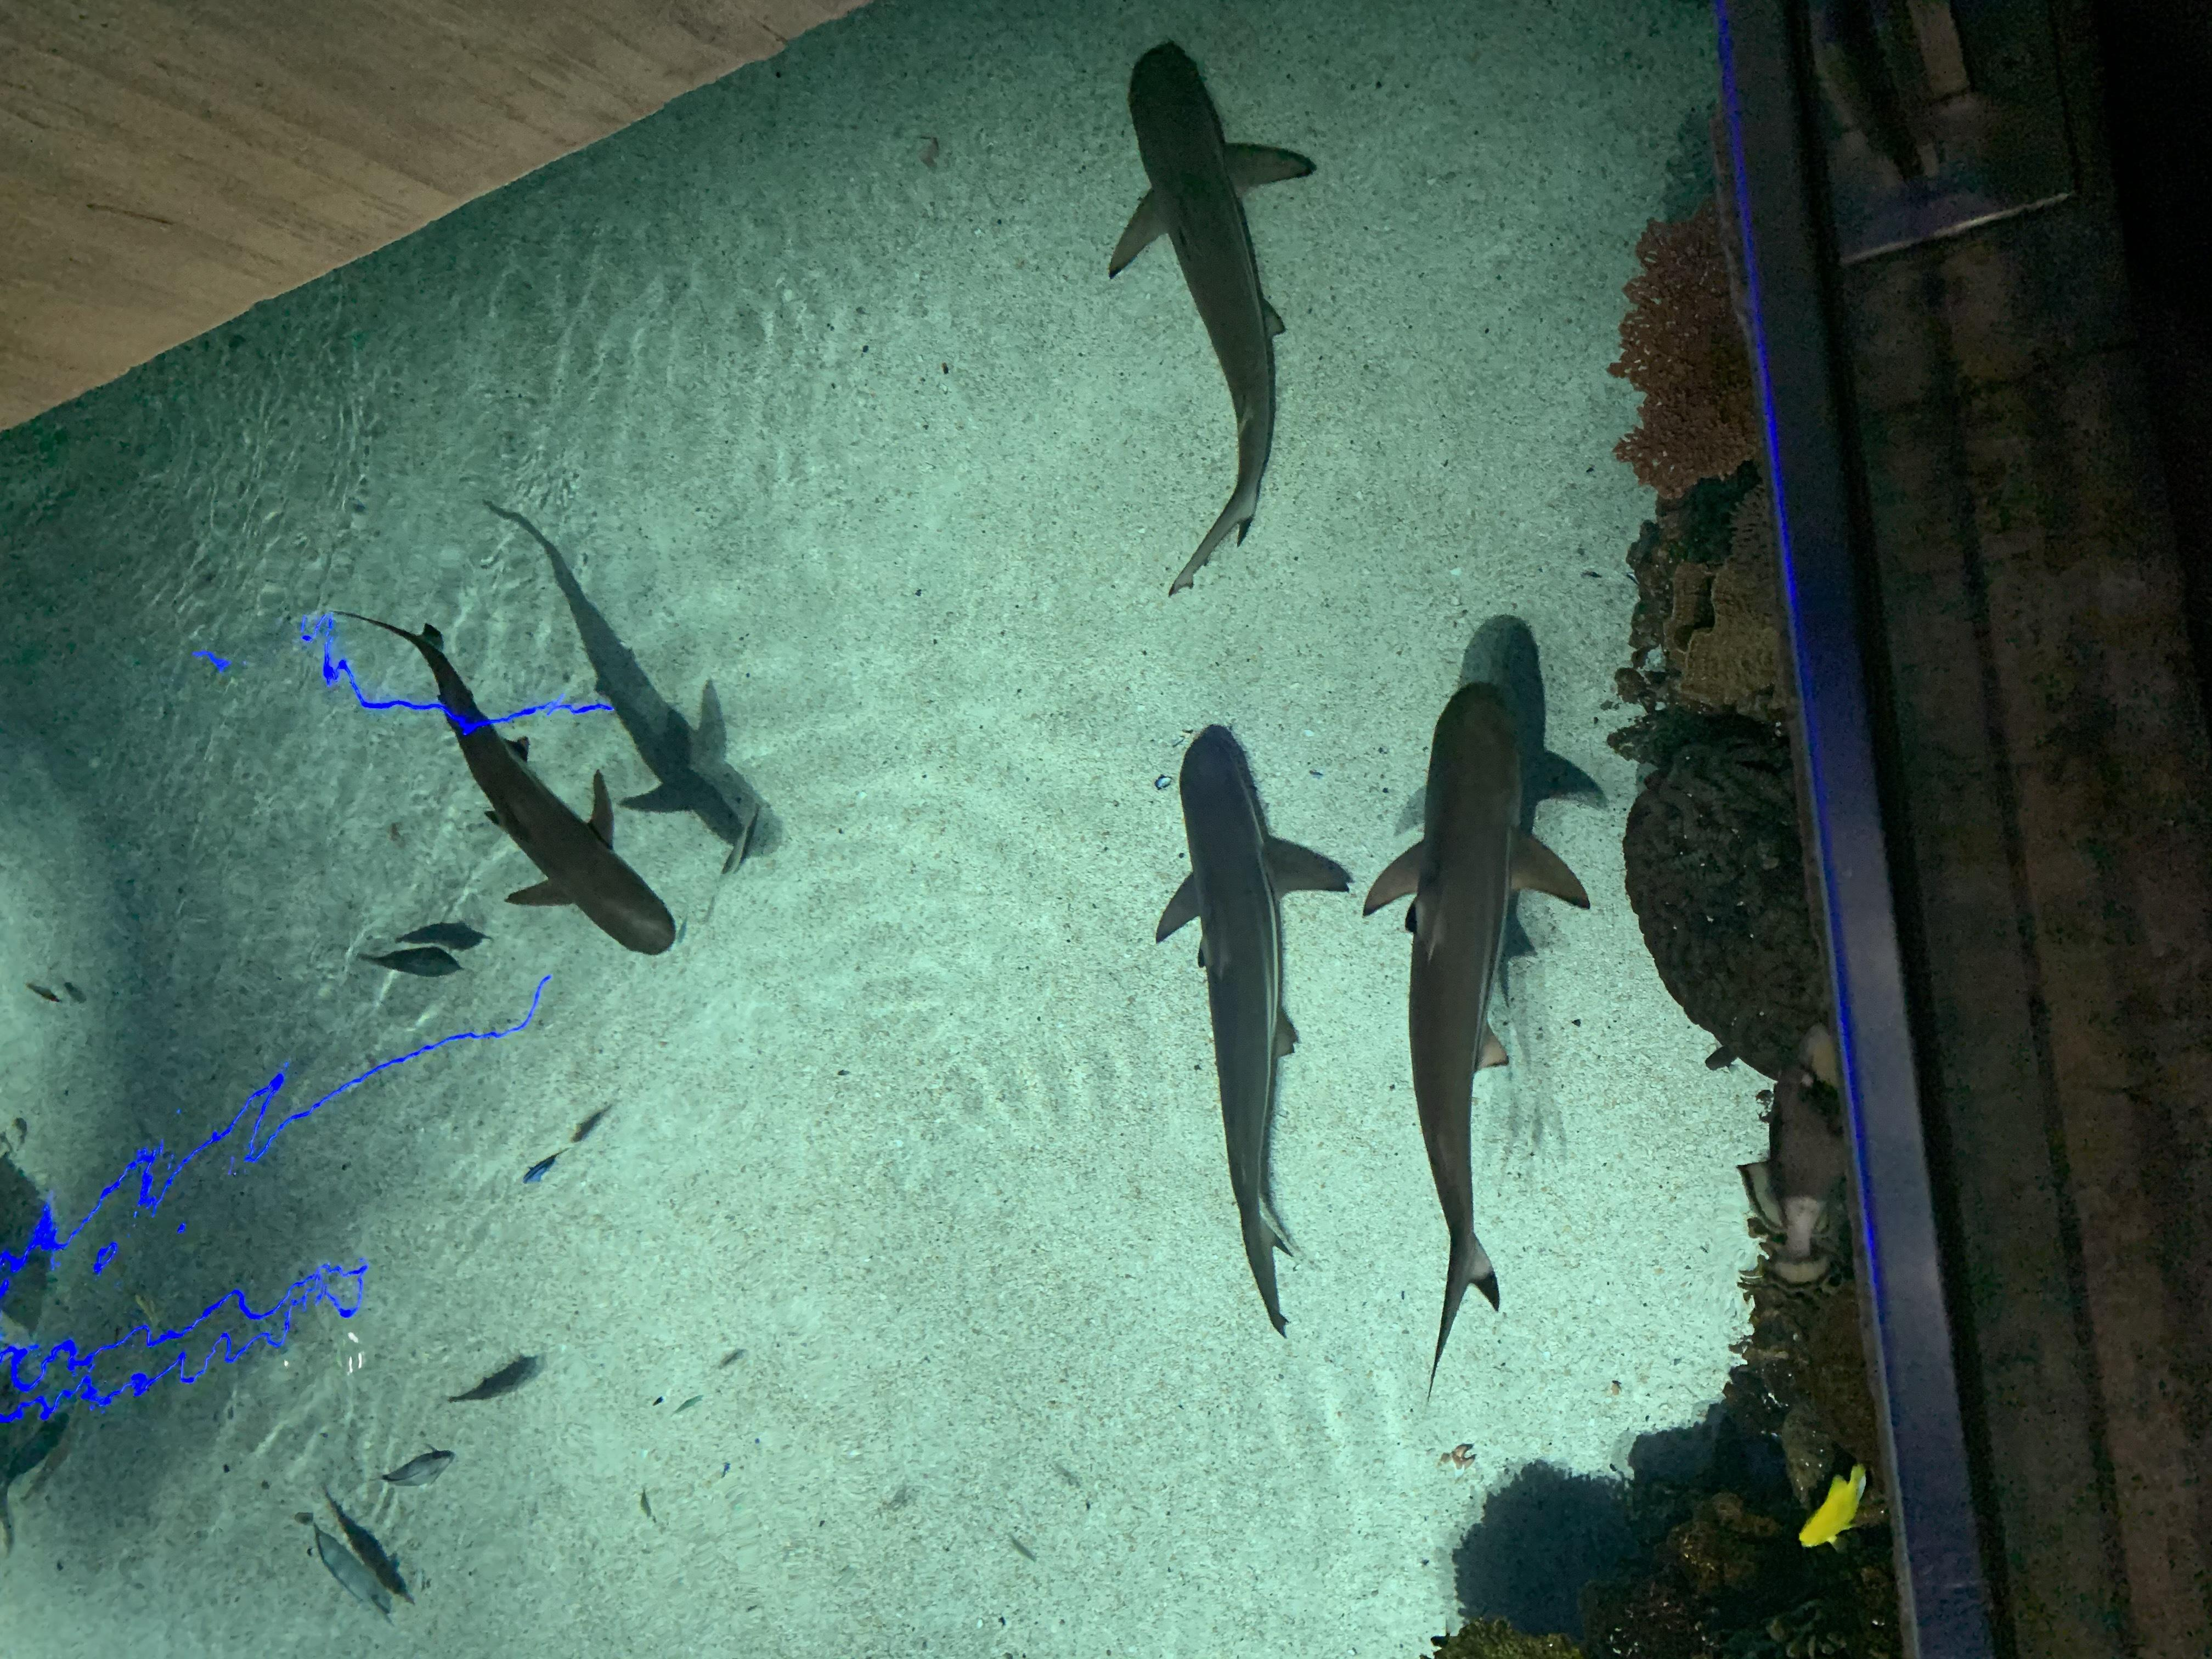fish: (291, 1509, 399, 1629), (1796, 1459, 1871, 1554), (369, 1438, 458, 1495), (441, 1354, 536, 1406), (352, 943, 465, 981), (519, 1141, 573, 1188), (24, 979, 64, 1006)
shark: (1353, 676, 1597, 1316), (1151, 718, 1360, 1347), (1099, 35, 1324, 615), (322, 606, 678, 957)
